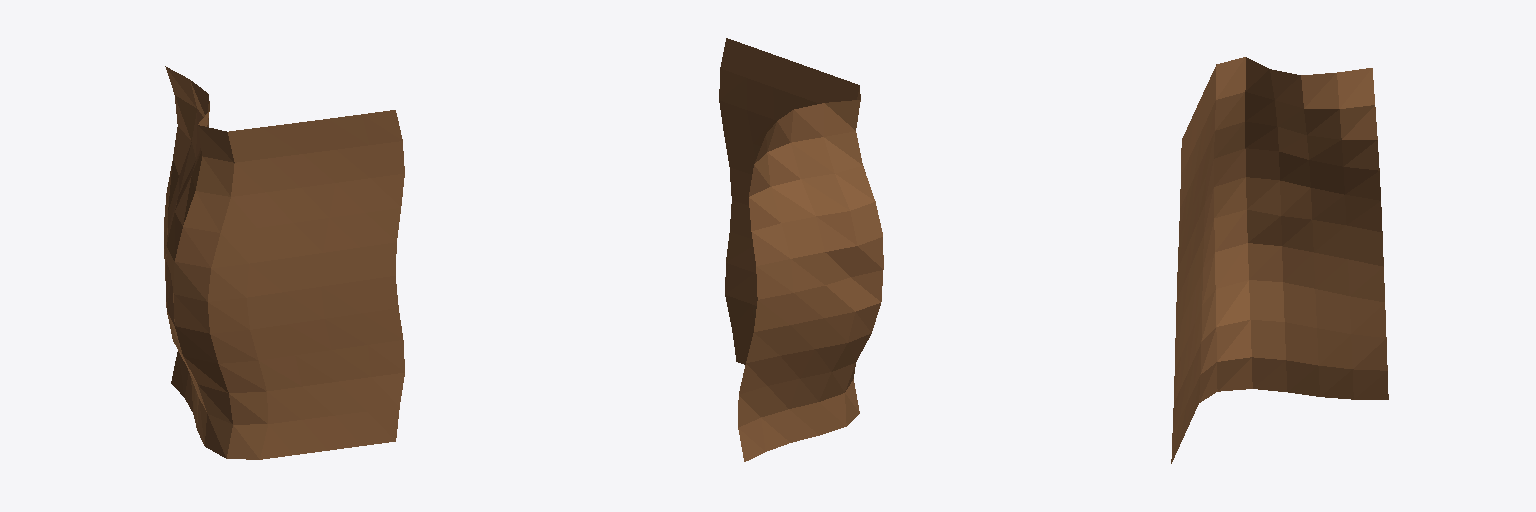
File: membrana.obj
The picture shows the model from 3 angles: view 1: azimuth 30°, elevation 25°; view 2: azimuth 150°, elevation 25°; view 3: azimuth 270°, elevation 25°; orthographic projection.
Visible parts, largest first — view 1: membrana; view 2: membrana; view 3: membrana.
Boxes of the visible parts, box(x1,y1,x2,y2) form: membrana: box(164, 66, 404, 459); membrana: box(719, 38, 883, 461); membrana: box(1171, 57, 1388, 463).
Bounding box in the file's own units: 1.51 × 2.44 × 1.44.